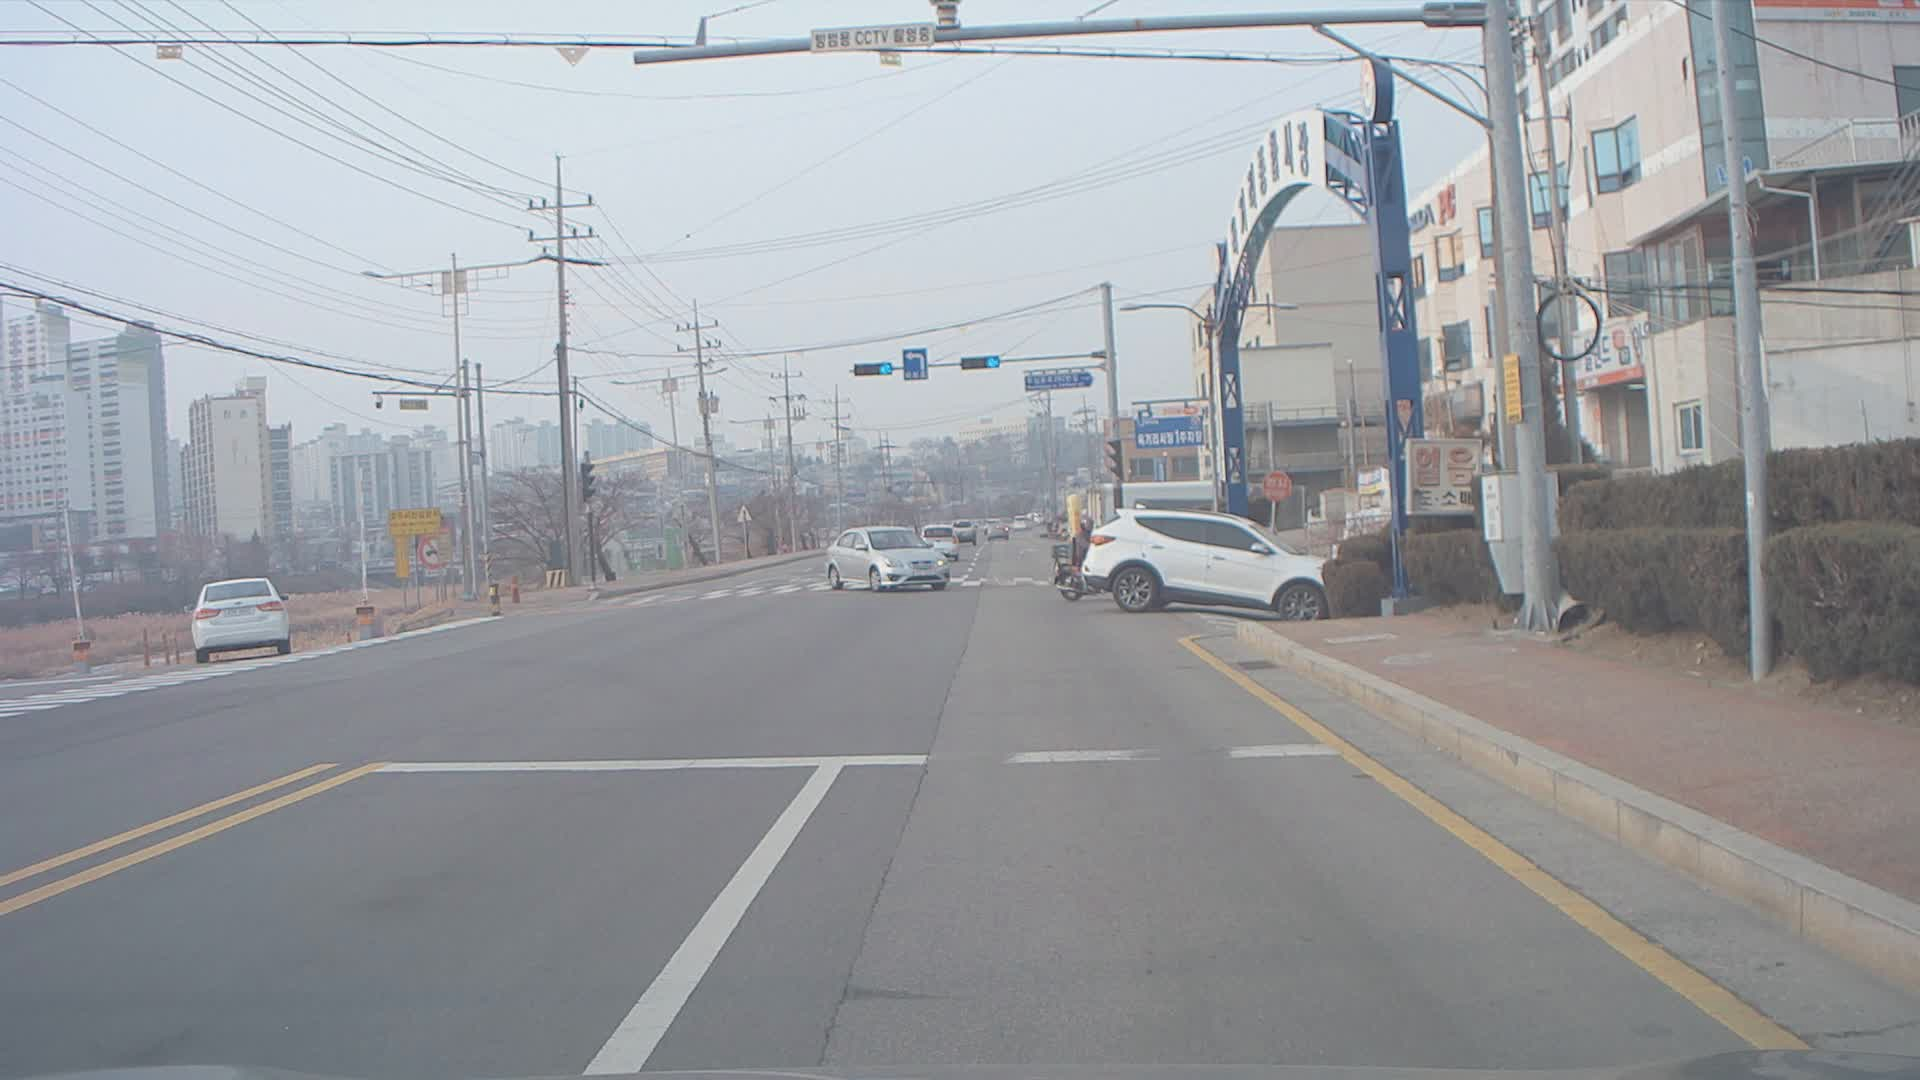trafficLight: (957, 353, 1000, 375), (855, 359, 891, 381)
trafficSignRTG: (901, 345, 931, 385)
